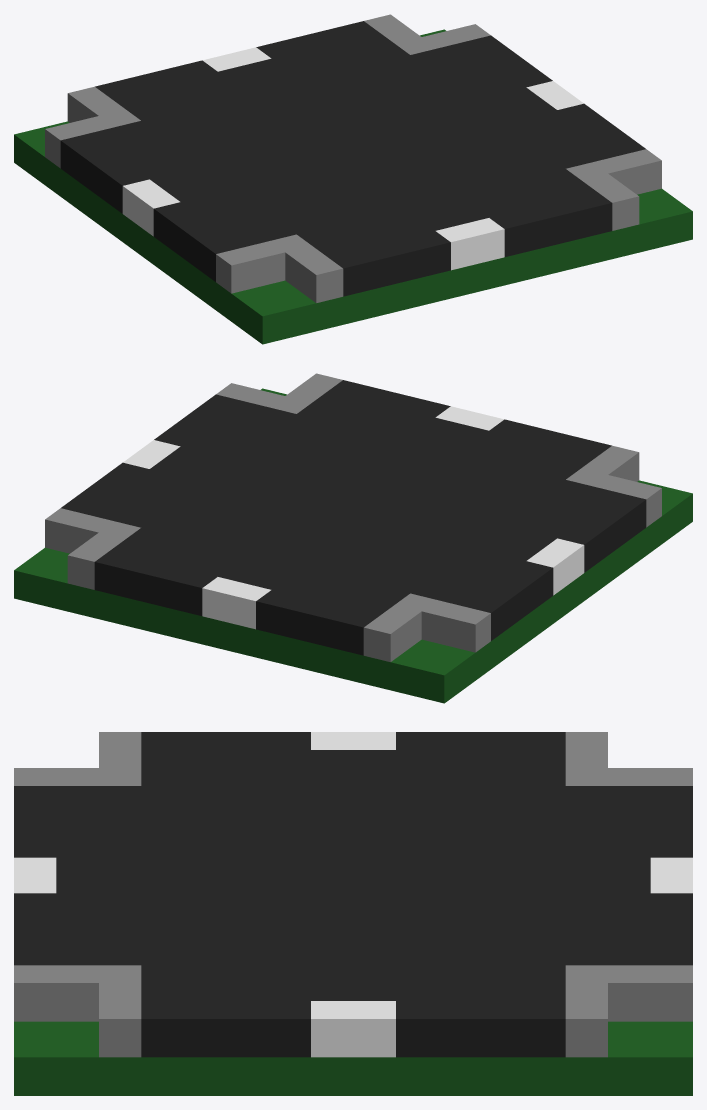
File: road_crossing.obj
The picture shows the model from 3 angles, top to bottom: view 1: azimuth 30°, elevation 25°; view 2: azimuth 150°, elevation 25°; view 3: azimuth 270°, elevation 25°; orthographic projection. The views are drawn at different scales.
Size of the model in its own units: 1.6 by 0.2 by 1.6.
1 material, 1 textured.
